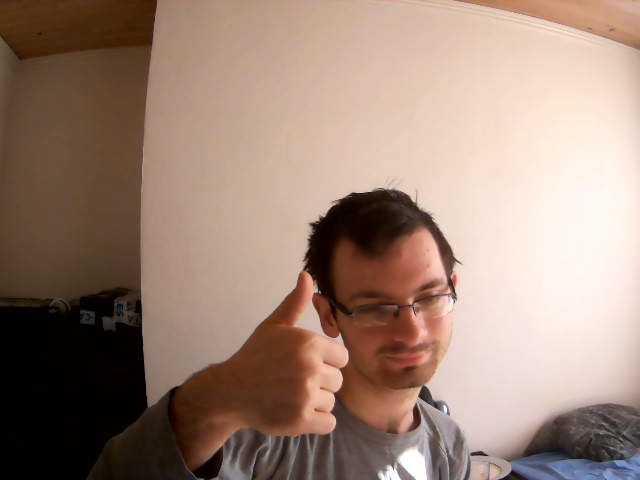nice: (244, 269, 346, 438)
